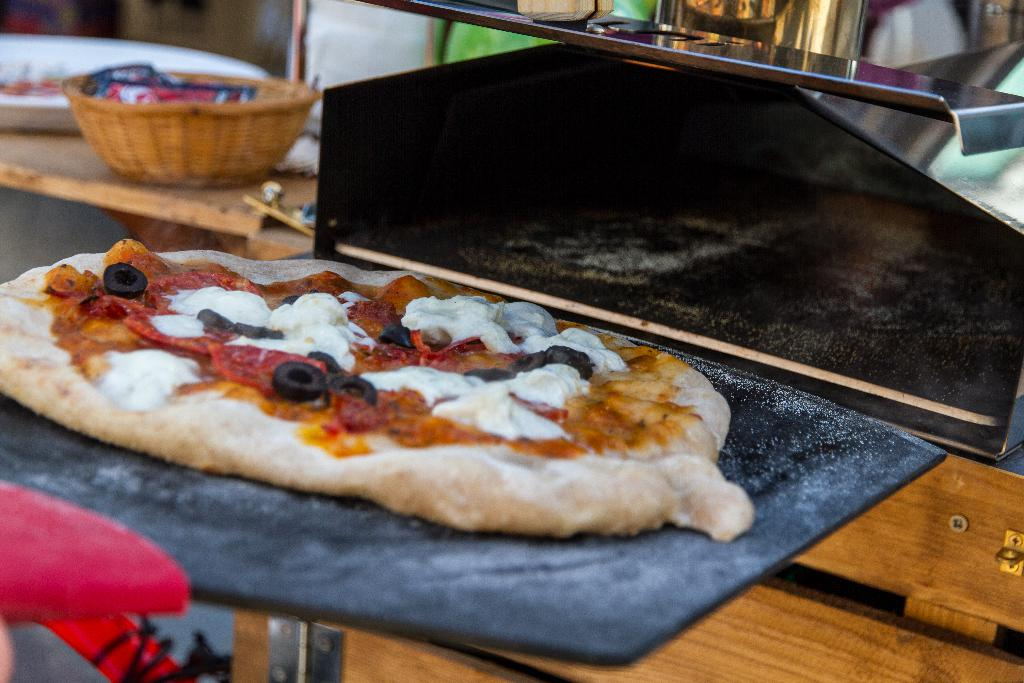Pizza: (0, 249, 762, 543)
